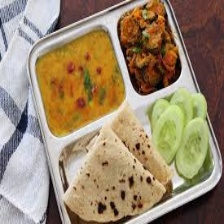sabzi: (116, 1, 183, 95)
